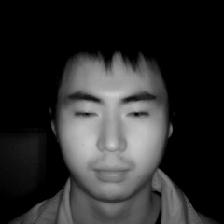normal: (42, 35, 187, 203)
